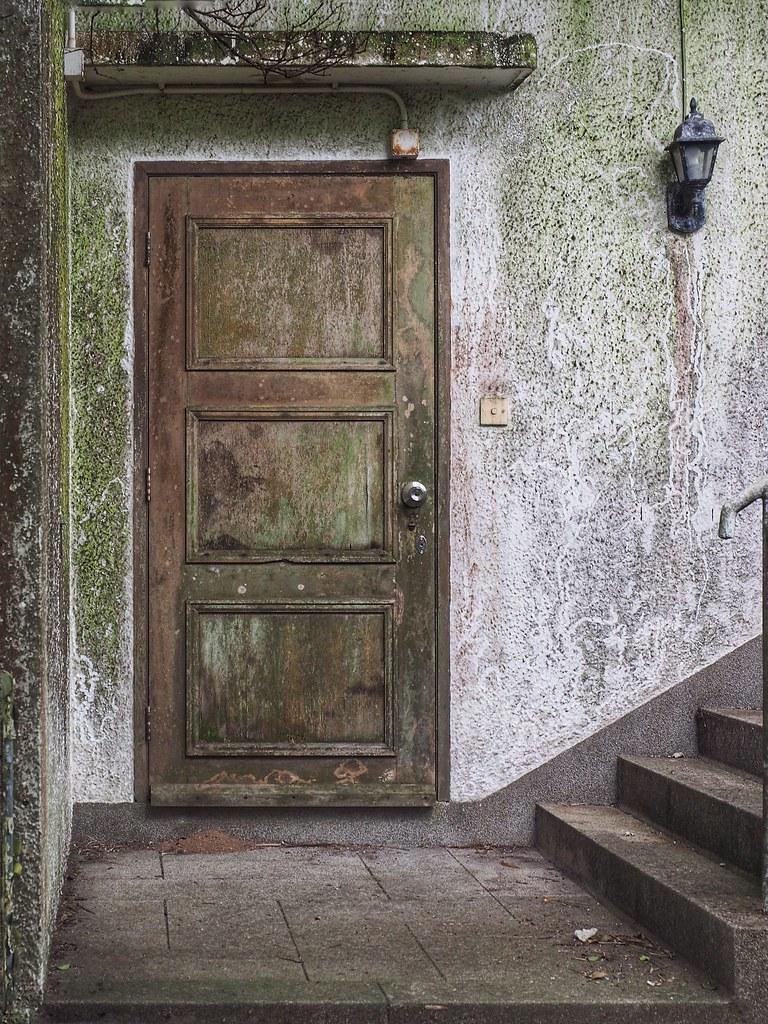door: (134, 159, 448, 809)
